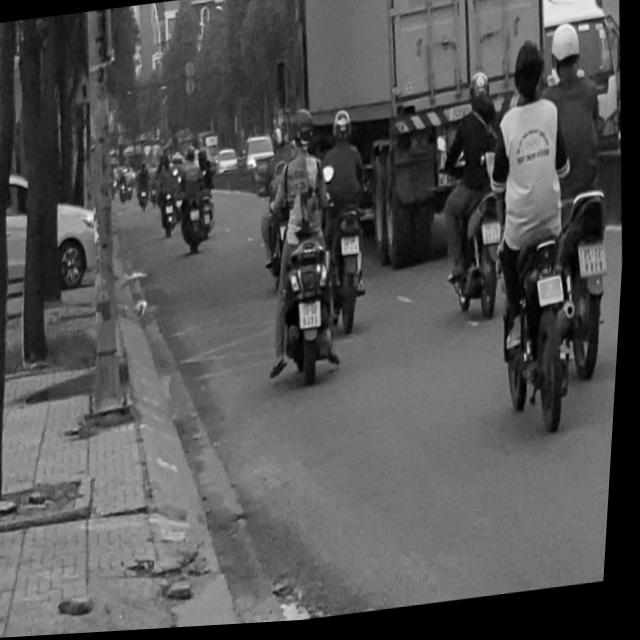helmet: (548, 25, 586, 83), (290, 107, 318, 156), (468, 74, 493, 113), (333, 109, 354, 144)
licenseplate: (472, 33, 595, 447), (533, 19, 636, 392), (253, 101, 353, 391), (431, 68, 520, 328), (312, 106, 384, 337)
motorcyclist: (509, 43, 549, 109)
nohelmet: (581, 248, 611, 281), (539, 279, 568, 311), (302, 303, 325, 330), (484, 226, 504, 248), (344, 238, 362, 257)
